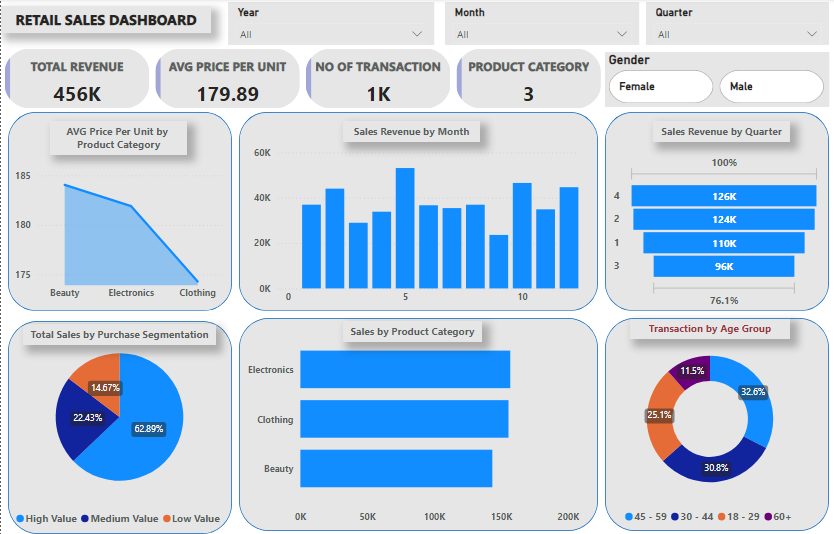

Layout of this report page (visuals, bound fields, positions):
{"tool":"powerbi","page":{"name":"Page 1","canvas":[1110,720],"ordinal":0},"visuals":[{"type":"textbox","box":[0,9.3,279,35.9],"z":0},{"type":"cardVisual","fields":{"Data":["Retail_sales_Worked_data.Total Revenue","Retail_sales_Worked_data.AVG Price per Unit","Retail_sales_Worked_data.No of Transactions","Retail_sales_Worked_data.Product Category"]},"box":[0,61.1,802.4,89],"z":1000},{"type":"shape","box":[802.4,150.1,297.6,264.4],"z":2000},{"type":"shape","box":[802.4,423.8,297.6,283],"z":3000},{"type":"shape","box":[9.3,150.1,297.6,264.4],"z":4000},{"type":"shape","box":[9.3,427.7,297.6,283],"z":5000},{"type":"shape","box":[316.2,150.1,476.9,264.4],"z":6000},{"type":"shape","box":[316.2,423.8,476.9,283],"z":7000},{"type":"donutChart","fields":{"Category":["Retail_sales_Worked_data.Age_Group"],"Y":["Retail_sales_Worked_data.No of Transactions"]},"box":[773.1,438.4,337.4,268.3],"z":8000},{"type":"textbox","box":[835.6,423.8,212.5,27.9],"z":9000},{"type":"pieChart","fields":{"Category":["Retail_sales_Worked_data.Purchase_Segmentation"],"Y":["Sum(Retail_sales_Worked_data.Total_Amount)"]},"box":[1.3,431.7,312.2,276.3],"z":10000},{"type":"textbox","box":[29.2,431.7,256.4,27.9],"z":11000},{"type":"clusteredBarChart","fields":{"Category":["Retail_sales_Worked_data.Product_Category"],"Y":["Retail_sales_Worked_data.Total Revenue"]},"box":[321.5,427.7,451.7,279],"z":11001},{"type":"textbox","box":[454.3,427.7,184.6,27.9],"z":11002},{"type":"lineClusteredColumnComboChart","fields":{"Category":["Retail_sales_Worked_data.Month"],"Y":["Retail_sales_Worked_data.Total Revenue"]},"box":[330.8,190,442.4,224.5],"z":11003},{"type":"textbox","box":[454.3,162.1,182,27.9],"z":11004},{"type":"funnel","fields":{"Category":["Retail_sales_Worked_data.Quarter"],"Y":["Retail_sales_Worked_data.Total Revenue"]},"box":[809,201.9,284.3,212.5],"z":11005},{"type":"textbox","box":[866.1,162.1,182,27.9],"z":11006},{"type":"areaChart","fields":{"Category":["Retail_sales_Worked_data.Product_Category"],"Y":["Retail_sales_Worked_data.AVG Price per Unit"]},"box":[13.3,207.2,288.3,201.9],"z":11007},{"type":"textbox","box":[65.1,162.1,182,45.2],"z":11008},{"type":"slicer","fields":{"Values":["Retail_sales_Worked_data.Year"]},"box":[301.5,4,273.7,57.1],"z":11009},{"type":"slicer","fields":{"Values":["Retail_sales_Worked_data.Month"]},"box":[589.8,4,257.7,57.1],"z":11010},{"type":"slicer","fields":{"Values":["Retail_sales_Worked_data.Quarter"]},"box":[856.8,4,243.1,57.1],"z":11011},{"type":"advancedSlicerVisual","fields":{"Values":["Retail_sales_Worked_data.Gender"]},"box":[802.4,70.4,297.6,73.1],"z":11012}]}

Visuals, with their boxes in screenshot pixels (x1, y1, x2, y2), scaled from the page's 1110x720 canvas onto the 834x534 screenshot:
textbox: (0,7,210,34)
cardVisual - Retail_sales_Worked_data.Total Revenue x Retail_sales_Worked_data.AVG Price per Unit: (0,45,603,111)
shape: (603,111,826,307)
shape: (603,314,826,524)
shape: (7,111,231,307)
shape: (7,317,231,527)
shape: (238,111,596,307)
shape: (238,314,596,524)
donutChart - Retail_sales_Worked_data.Age_Group x Retail_sales_Worked_data.No of Transactions: (581,325,833,524)
textbox: (628,314,787,335)
pieChart - Retail_sales_Worked_data.Purchase_Segmentation x Sum(Retail_sales_Worked_data.Total_Amount): (1,320,236,525)
textbox: (22,320,215,341)
clusteredBarChart - Retail_sales_Worked_data.Product_Category x Retail_sales_Worked_data.Total Revenue: (242,317,581,524)
textbox: (341,317,480,338)
lineClusteredColumnComboChart - Retail_sales_Worked_data.Month x Retail_sales_Worked_data.Total Revenue: (249,141,581,307)
textbox: (341,120,478,141)
funnel - Retail_sales_Worked_data.Quarter x Retail_sales_Worked_data.Total Revenue: (608,150,821,307)
textbox: (651,120,787,141)
areaChart - Retail_sales_Worked_data.Product_Category x Retail_sales_Worked_data.AVG Price per Unit: (10,154,227,303)
textbox: (49,120,186,154)
slicer - Retail_sales_Worked_data.Year: (227,3,432,45)
slicer - Retail_sales_Worked_data.Month: (443,3,637,45)
slicer - Retail_sales_Worked_data.Quarter: (644,3,826,45)
advancedSlicerVisual - Retail_sales_Worked_data.Gender: (603,52,826,106)
